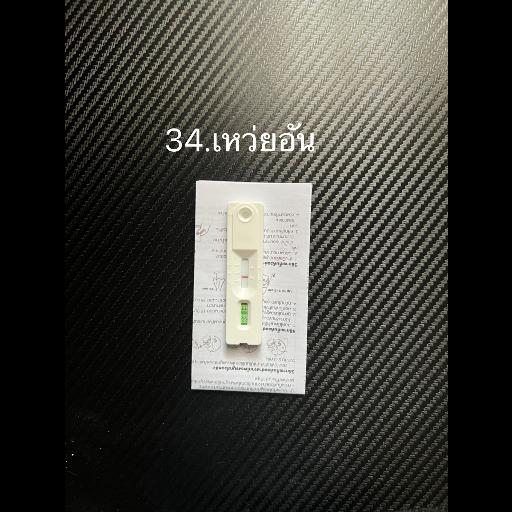Neg: (226, 202, 262, 344)
